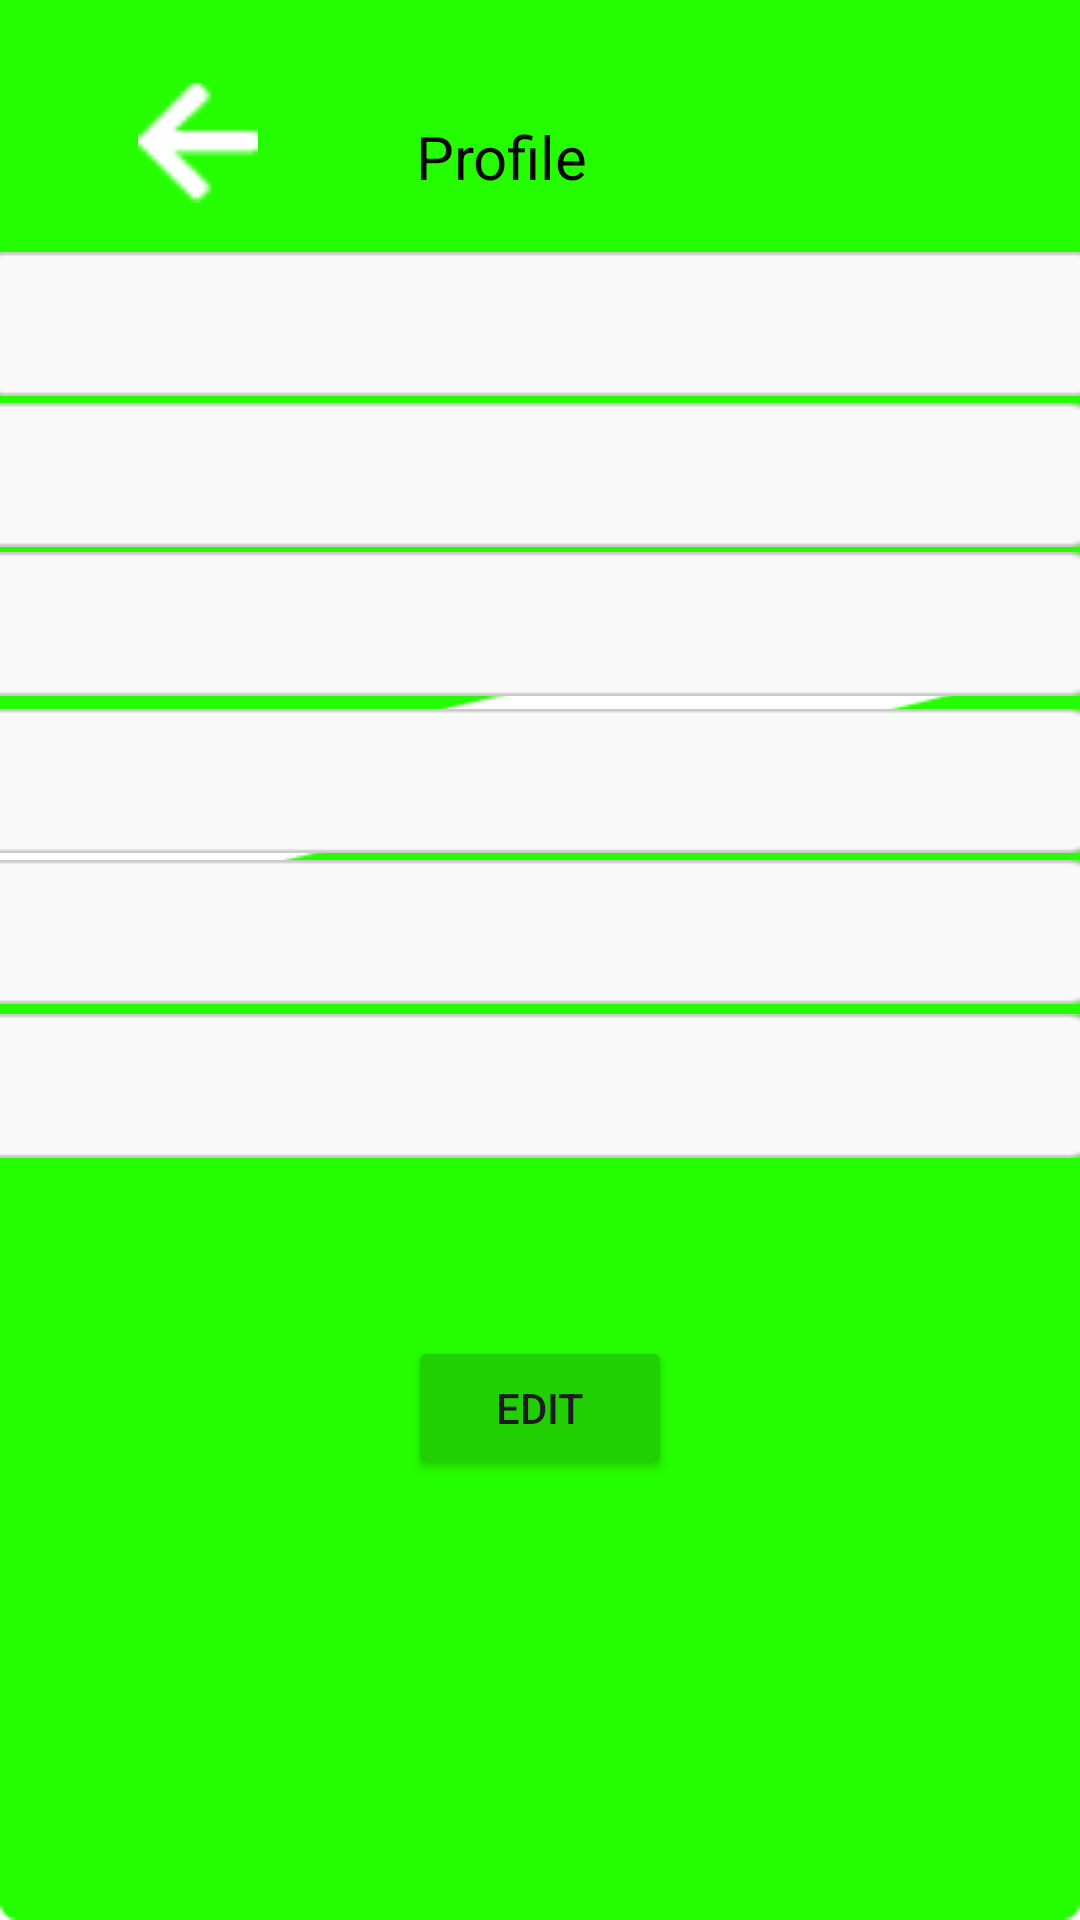

Icon click points for this 1080*1920 phone screenshot, format point (x, y):
kembali: point (198, 143)
